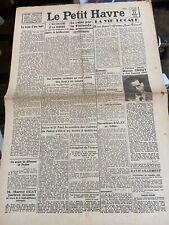paper: (1, 2, 168, 224)
